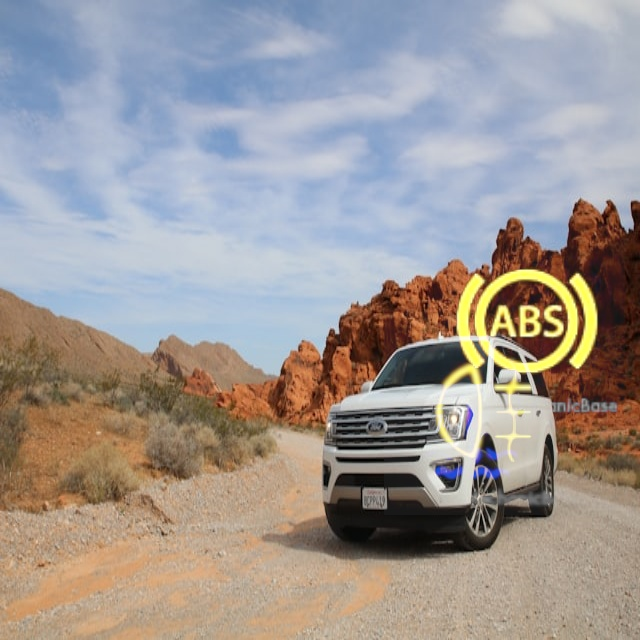symbol: (384, 311, 588, 515), (427, 224, 625, 422), (400, 365, 543, 508)
